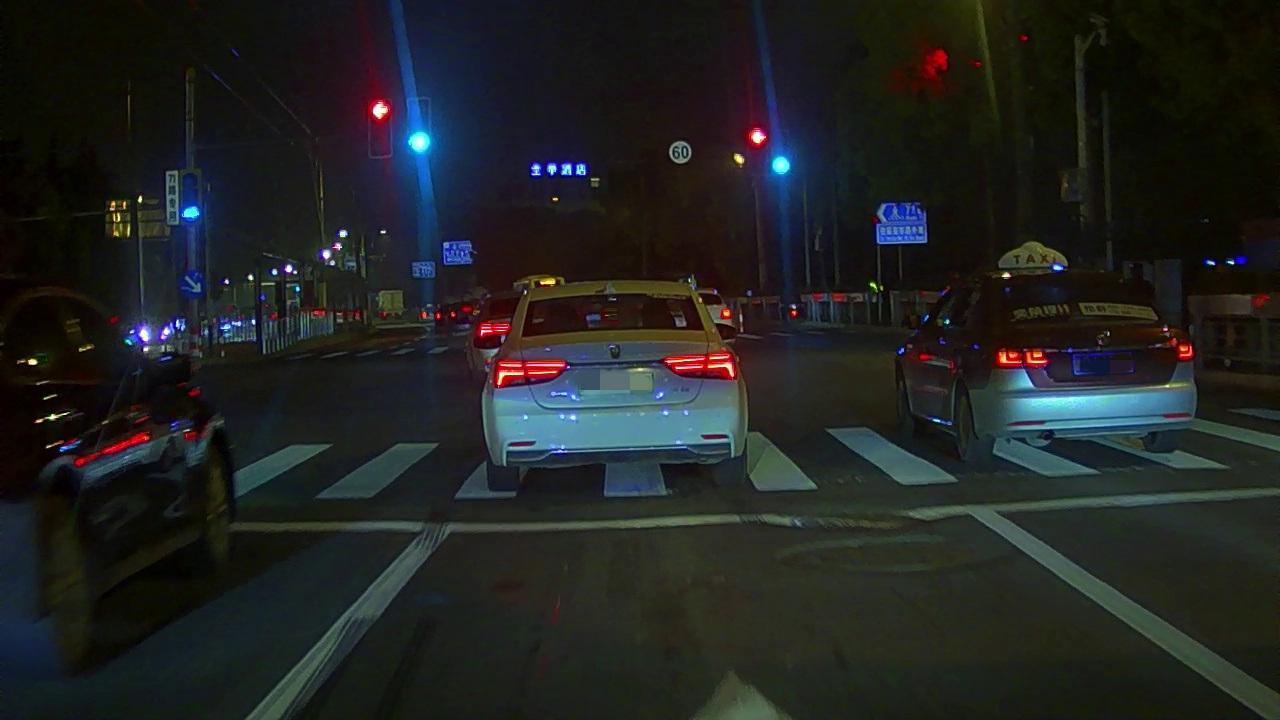traffic_light: (369, 100, 391, 159), (408, 98, 429, 157), (770, 133, 791, 183), (750, 131, 766, 145)
